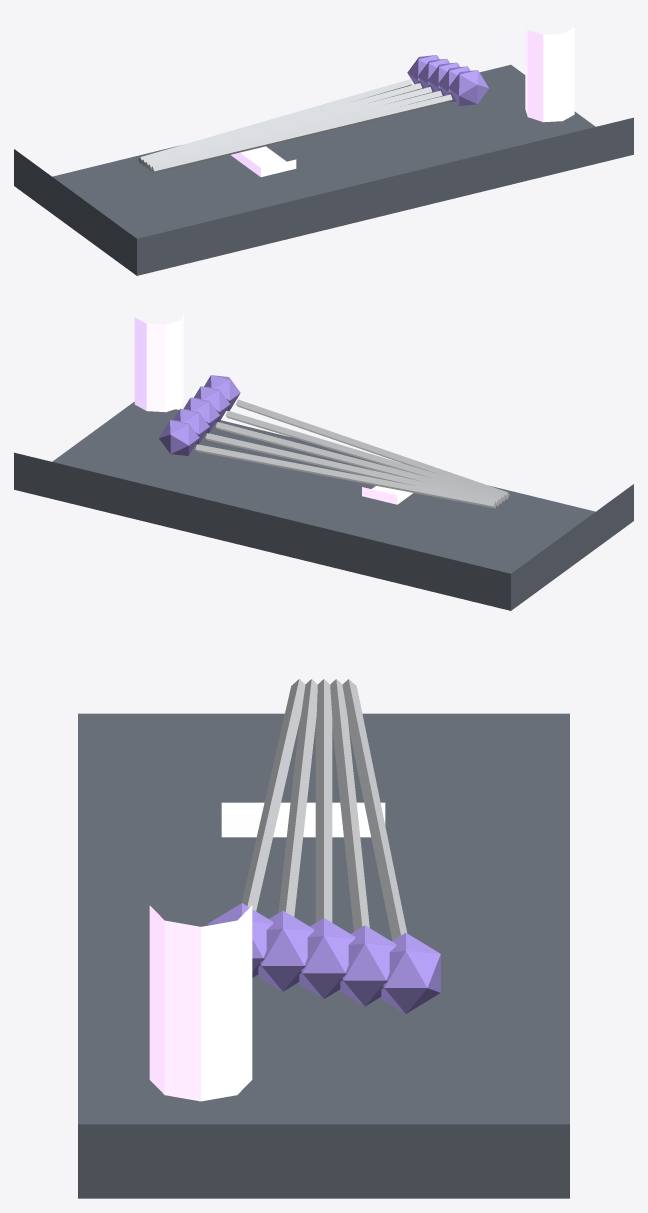
File: ext_offering_set_03.glb
3 views of the same model, one above another, from view 1: azimuth 30°, elevation 25°; view 2: azimuth 150°, elevation 25°; view 3: azimuth 270°, elevation 25° (orthographic). The views are drawn at different scales.
Visible parts, largest first — view 1: Plinth, Stems, Candle, Dried_Petals, Ribbon; view 2: Plinth, Stems, Candle, Dried_Petals, Ribbon; view 3: Plinth, Stems, Candle, Dried_Petals, Ribbon.
Part boxes in pixels (box(x1,y1,x2,y2)): Plinth: box(14, 64, 633, 275); Stems: box(138, 79, 452, 173); Candle: box(525, 22, 574, 122); Dried_Petals: box(407, 55, 488, 106); Ribbon: box(231, 146, 296, 176); Plinth: box(14, 401, 633, 610); Stems: box(195, 399, 509, 508); Candle: box(134, 312, 184, 412); Dried_Petals: box(159, 375, 240, 455); Ribbon: box(362, 466, 438, 504); Plinth: box(78, 713, 569, 1198); Stems: box(241, 679, 406, 940); Candle: box(149, 905, 252, 1101); Dried_Petals: box(207, 903, 440, 1013); Ribbon: box(221, 802, 385, 837).
Bounding box in the file's own units: 0.56 × 0.13 × 0.24.
